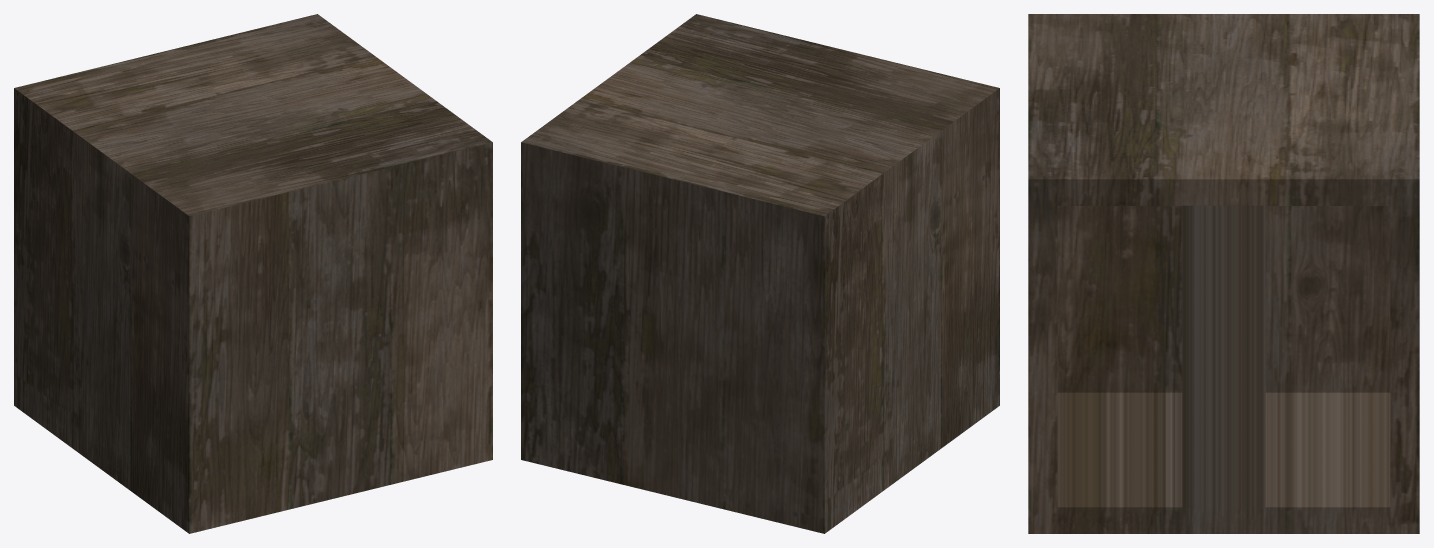
File: Crate.glb
3 renders of one model, left to right at view 1: azimuth 30°, elevation 25°; view 2: azimuth 150°, elevation 25°; view 3: azimuth 270°, elevation 25°, orthographic. The views are drawn at different scales.
Visible parts, largest first — view 1: Cube; view 2: Cube; view 3: Cube.
Part boxes in pixels (x1,y1,x2,y2): Cube: (14,14,492,533); Cube: (521,14,999,533); Cube: (1028,14,1419,533).
Bounding box in the file's own units: 2 × 2 × 2.
1 material, 1 textured.
